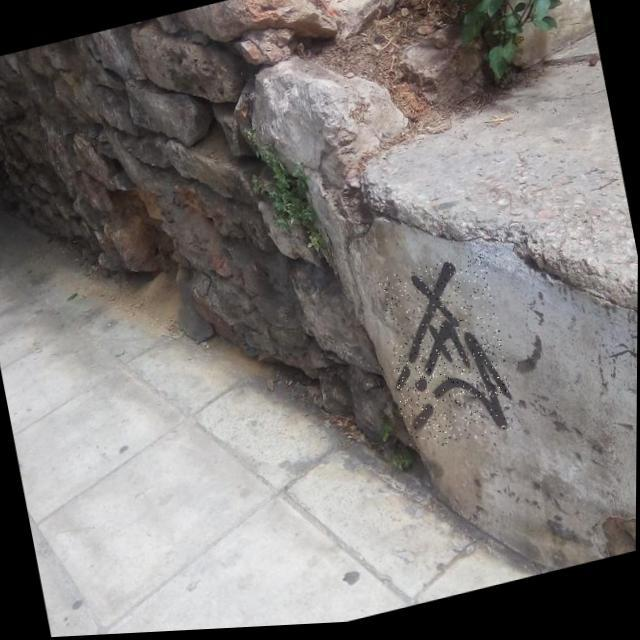-: (376, 256, 520, 461)
